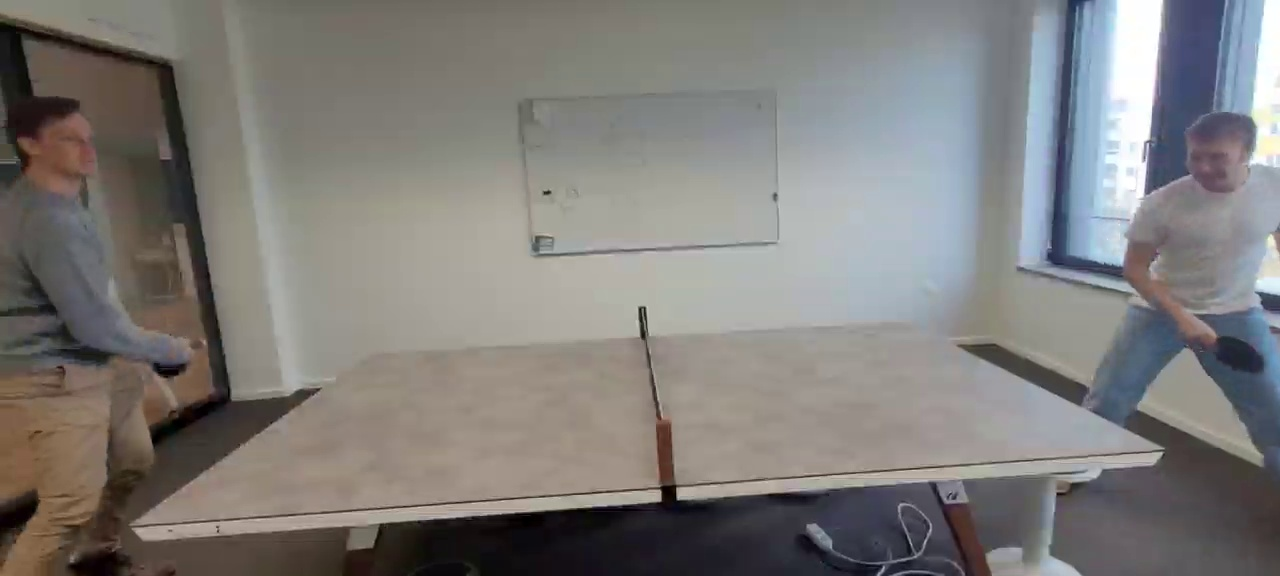1: (1214, 334, 1265, 373)
2: (923, 279, 941, 295)
ttplatte: (130, 322, 1165, 527)
